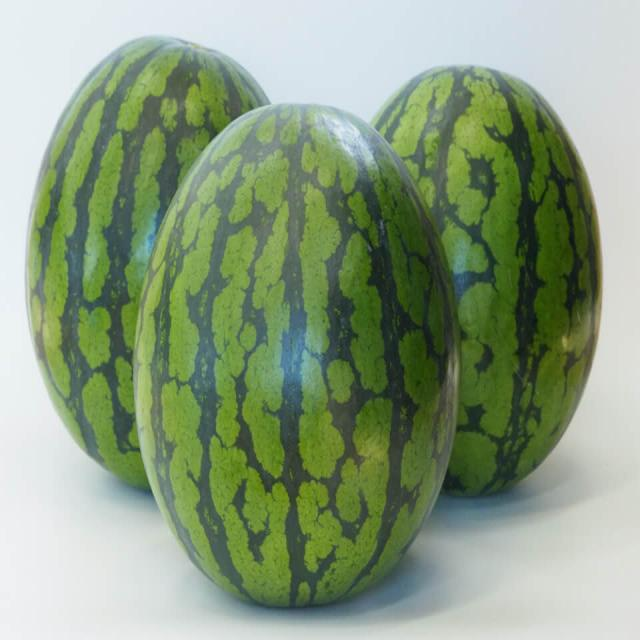watermelon: (134, 103, 458, 612), (27, 35, 271, 493), (369, 66, 603, 499)
